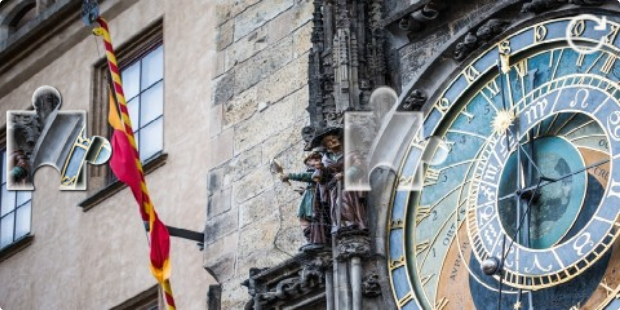target: (345, 86, 447, 191)
